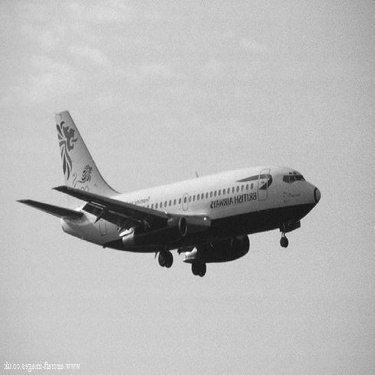airplane: (1, 83, 329, 277)
